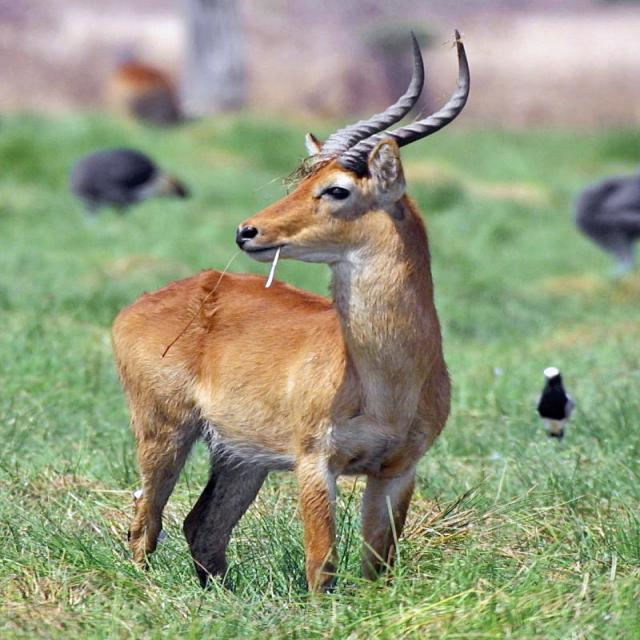Antelope: (108, 24, 486, 596)
